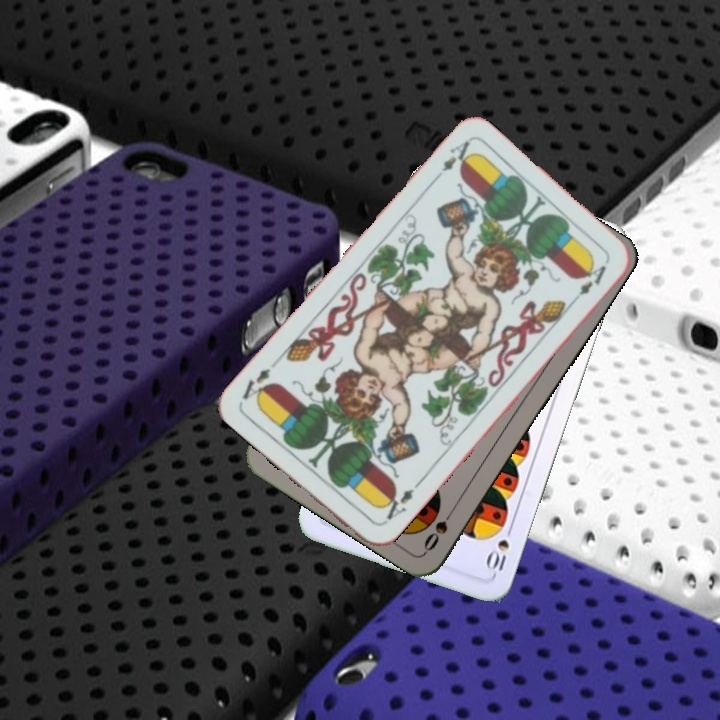EA: (429, 136, 476, 185), (376, 484, 417, 528)
S10: (483, 520, 516, 574)
SO: (419, 501, 459, 555)
